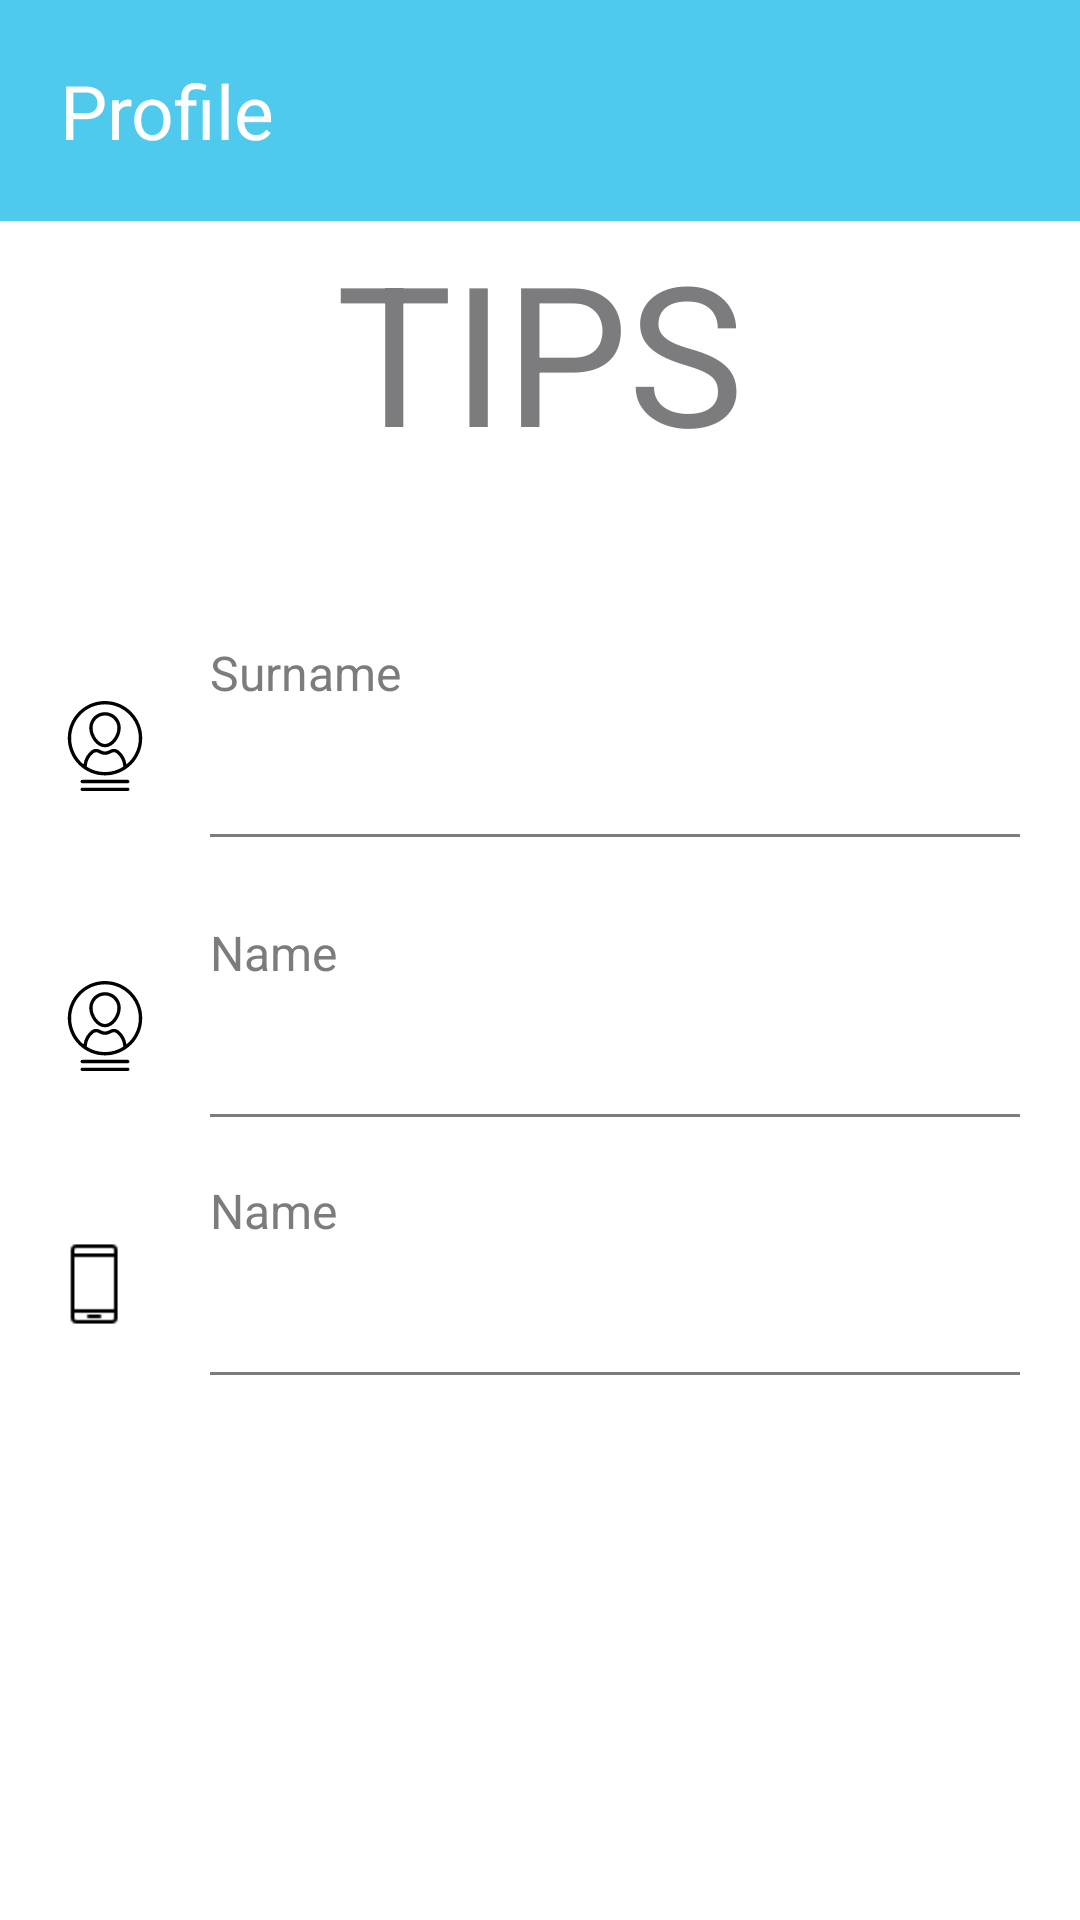

Screen size 1080px×1920px. Icon name, then its center in pixels as [x,y]:
phone: [94,1284]
profile: [105,746], [105,1026]
